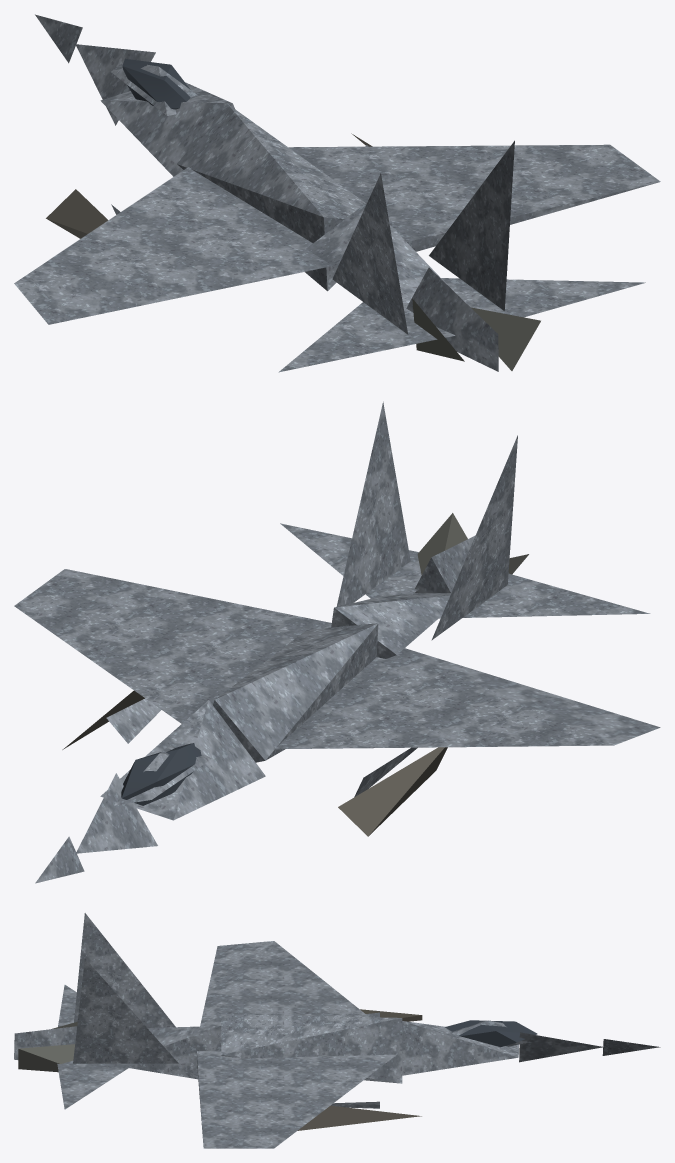
Rendered from air_e2_us_sead_LOD2.glb.
3 views of the same model, one above another, from view 1: azimuth 30°, elevation 25°; view 2: azimuth 150°, elevation 25°; view 3: azimuth 270°, elevation 25° (orthographic). The views are drawn at different scales.
Visible parts, largest first — view 1: air_e2_us_sead_LOD2_body, air_e2_us_sead_LOD2_gun, air_e2_us_sead_LOD2_glass, air_e2_us_sead_LOD2_deck; view 2: air_e2_us_sead_LOD2_body, air_e2_us_sead_LOD2_deck, air_e2_us_sead_LOD2_glass, air_e2_us_sead_LOD2_gun; view 3: air_e2_us_sead_LOD2_body, air_e2_us_sead_LOD2_deck, air_e2_us_sead_LOD2_glass, air_e2_us_sead_LOD2_gun.
Part boxes in pixels (box(x1,y1,x2,y2)): air_e2_us_sead_LOD2_body: box(14, 14, 660, 372); air_e2_us_sead_LOD2_gun: box(412, 298, 540, 370); air_e2_us_sead_LOD2_glass: box(122, 58, 190, 109); air_e2_us_sead_LOD2_deck: box(46, 133, 372, 238); air_e2_us_sead_LOD2_body: box(14, 401, 660, 883); air_e2_us_sead_LOD2_deck: box(62, 690, 447, 836); air_e2_us_sead_LOD2_glass: box(121, 743, 201, 805); air_e2_us_sead_LOD2_gun: box(417, 513, 528, 574); air_e2_us_sead_LOD2_body: box(14, 913, 660, 1148); air_e2_us_sead_LOD2_deck: box(297, 1009, 422, 1130); air_e2_us_sead_LOD2_glass: box(445, 1020, 537, 1046); air_e2_us_sead_LOD2_gun: box(18, 1021, 77, 1072).
Size of the model in its own units: 13.74 by 4.5 by 18.33.
4 materials, 1 textured.
